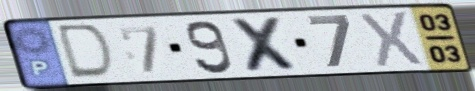7: (304, 13, 356, 70), (119, 25, 161, 74)
9: (185, 19, 235, 75)
D: (56, 22, 117, 81)
X: (227, 15, 306, 74), (357, 10, 426, 69)
